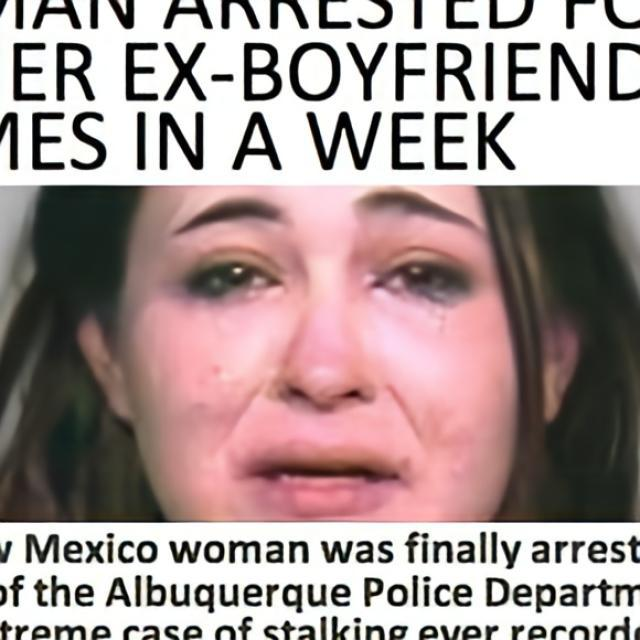sad: (123, 190, 524, 522)
